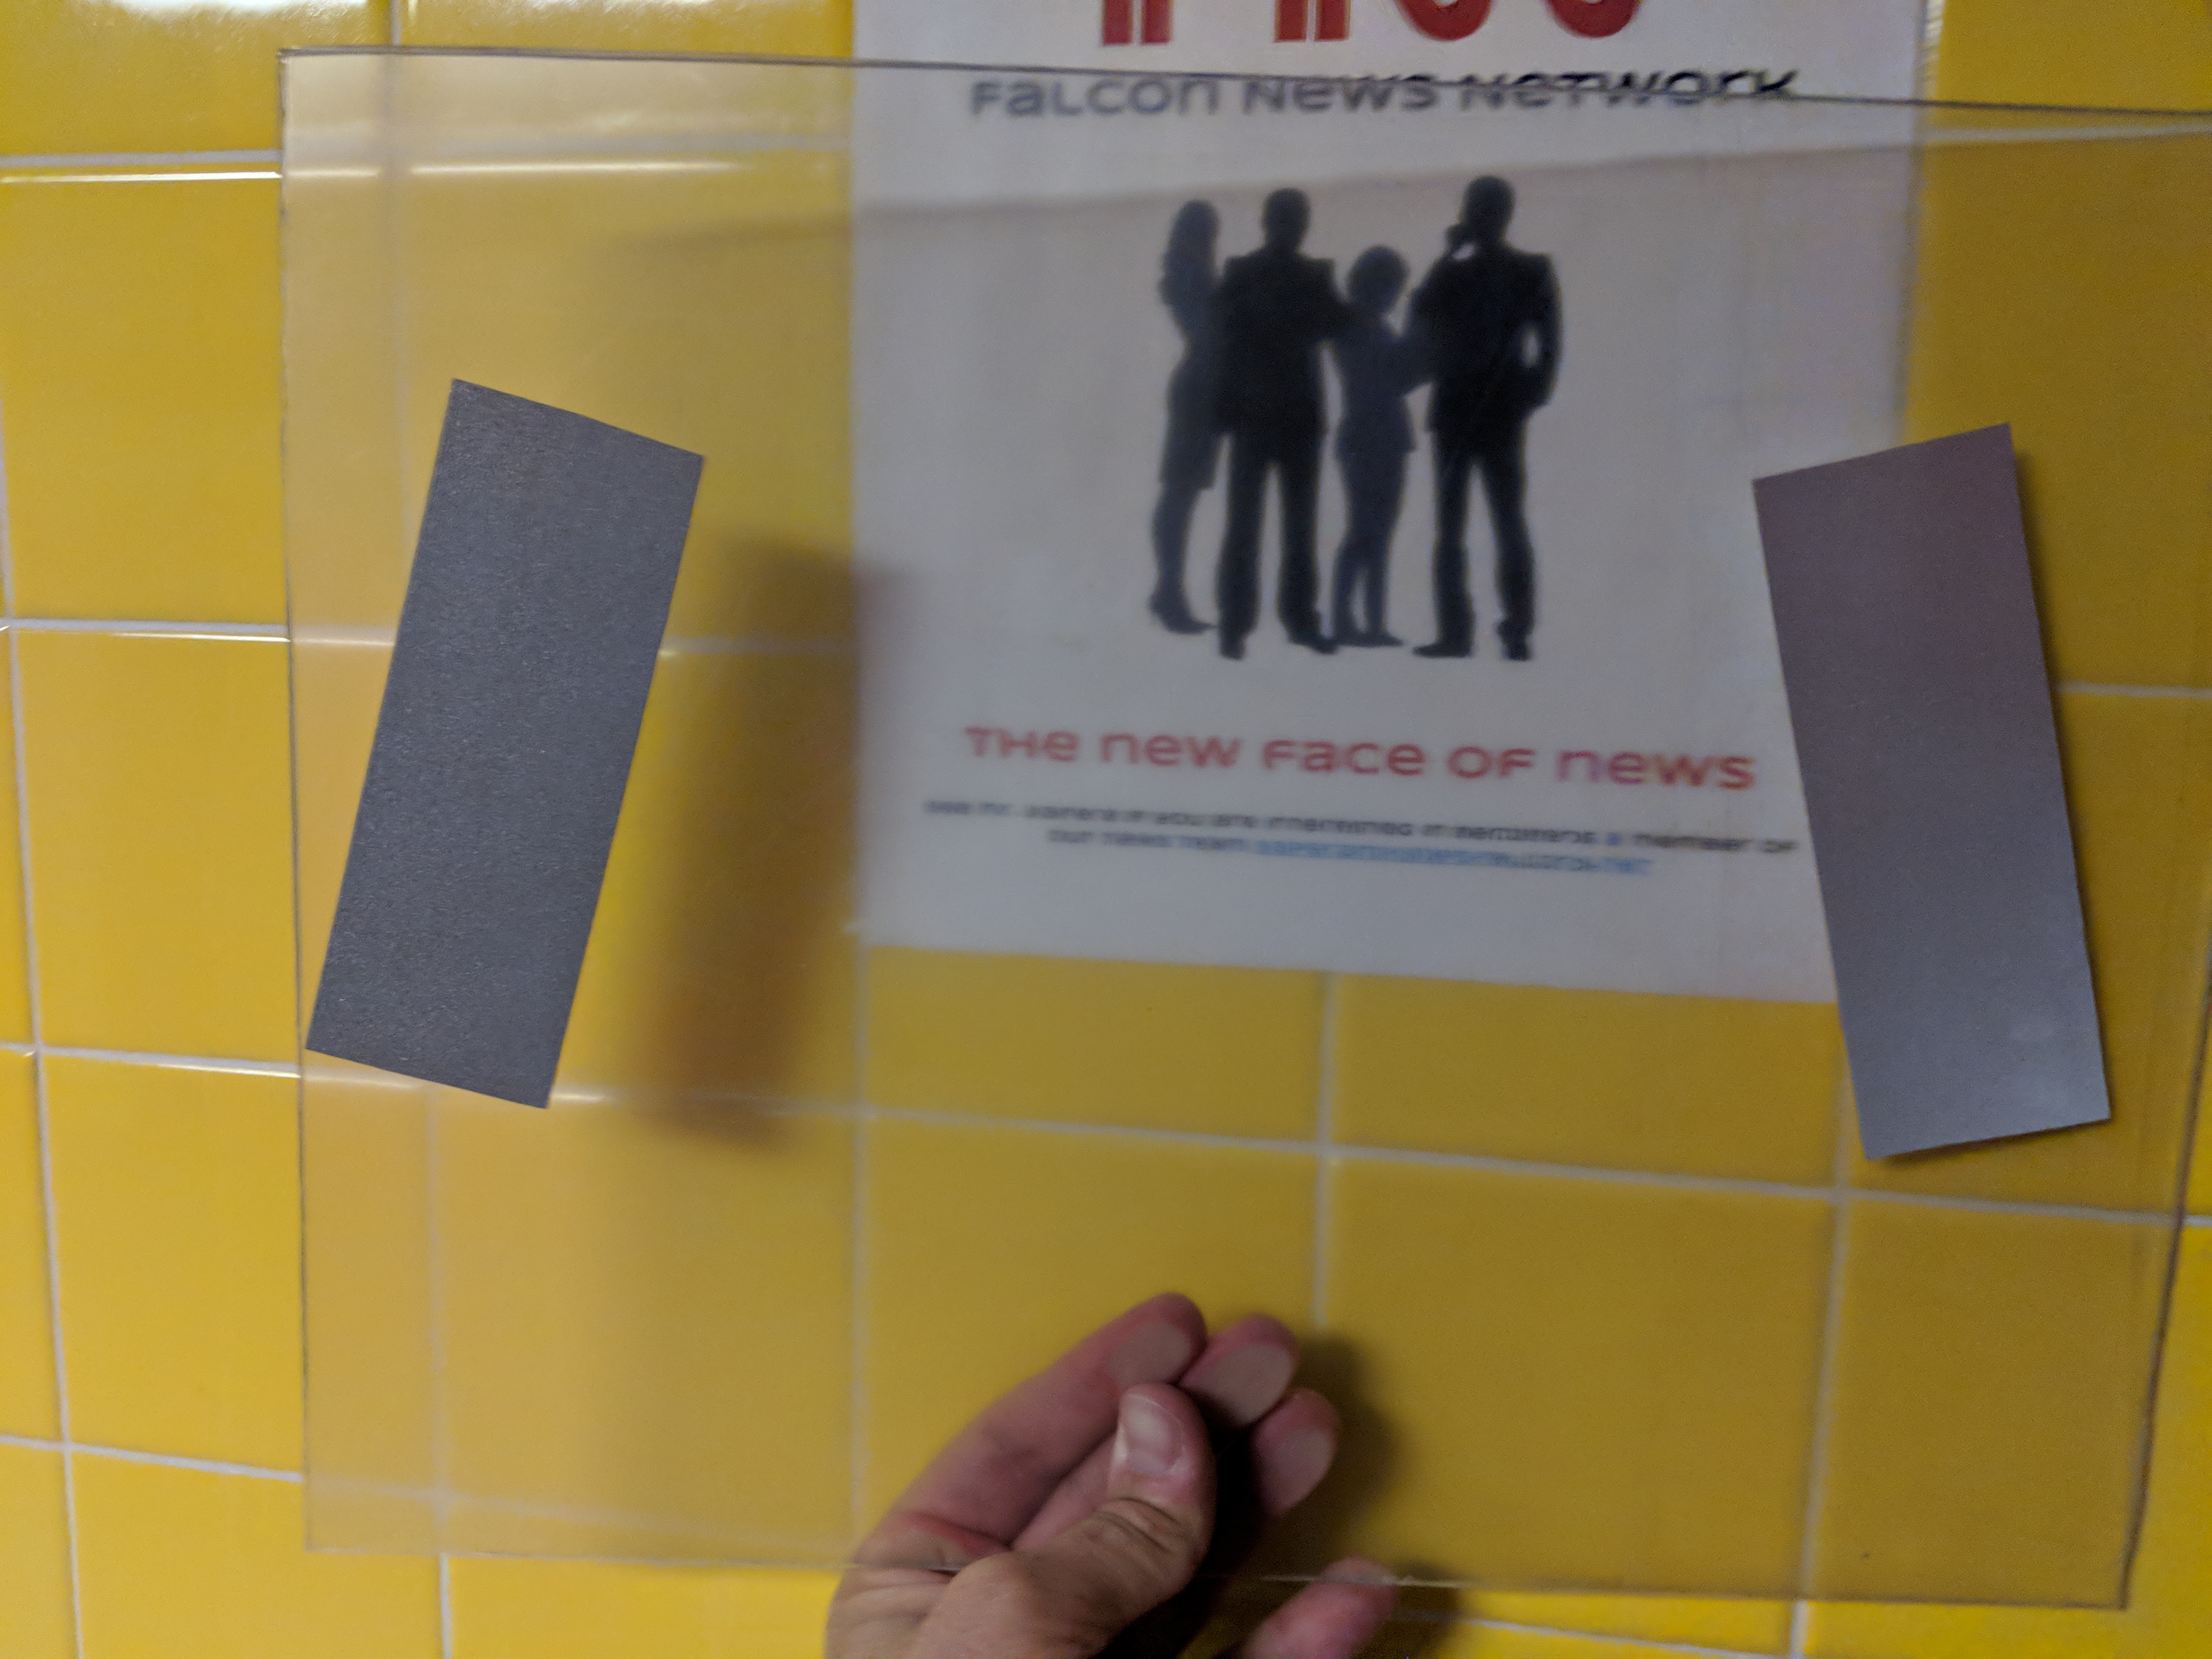vision_target: (282, 369, 2121, 1155)
